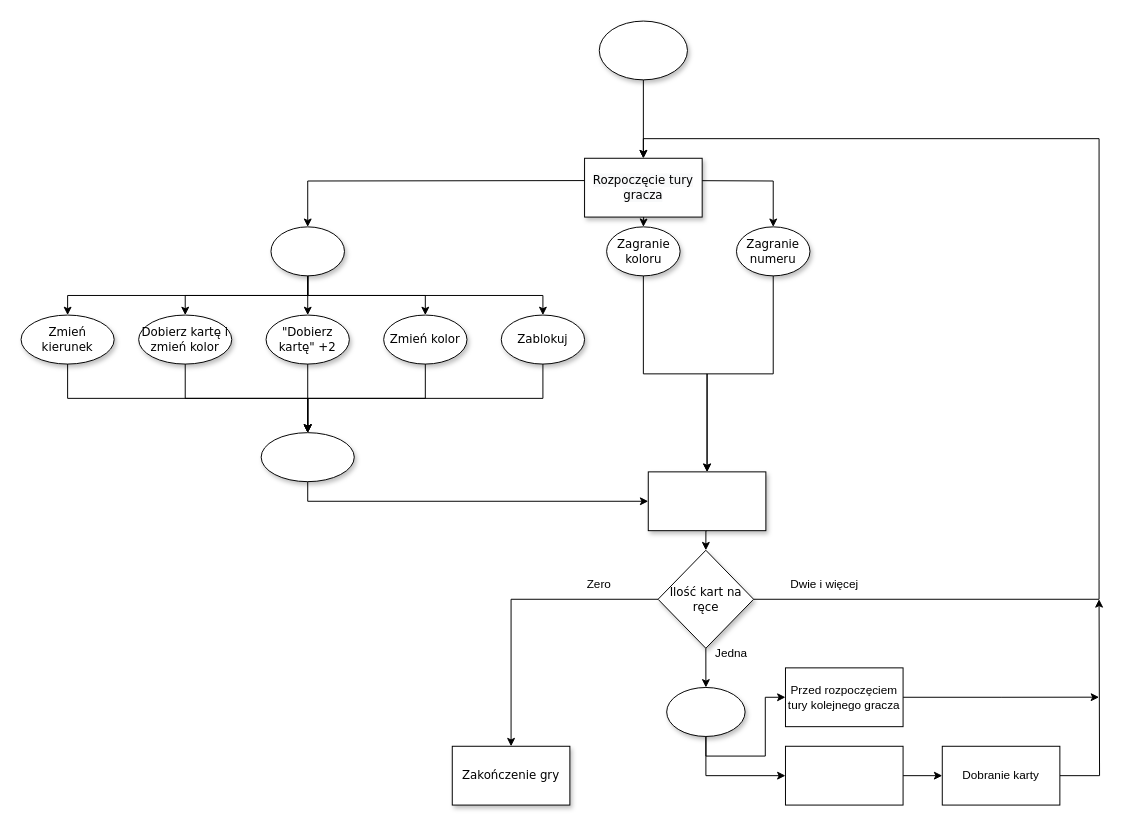
The diagram is 1125 pixels wide and 829 high, and some of its shapes have lost their labels. The centre of each missing label's shape, as x and y in pixels:
Okrzyk "UNO!": (x=706, y=713)
Po rozpoczęciu tury kolejnego gracza: (x=843, y=775)
Reakcja przeciwnika: (x=308, y=458)
Rozdanie kart graczom: (x=643, y=51)
Zagranie karty akcji: (x=308, y=252)
Zakończenie tury: (x=707, y=502)
